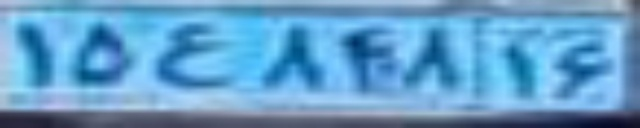1: (17, 23, 53, 86), (502, 42, 537, 99)
4: (338, 26, 394, 92)
5: (65, 21, 134, 83)
6: (547, 42, 616, 100)
8: (259, 24, 327, 89), (403, 28, 461, 91)
ain: (151, 22, 231, 87)
